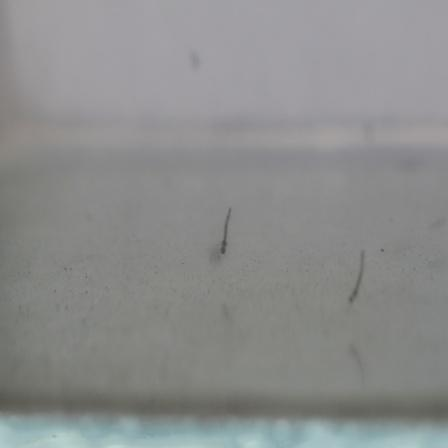Jentik-Nyamuk: (345, 243, 368, 308), (216, 203, 238, 259)
